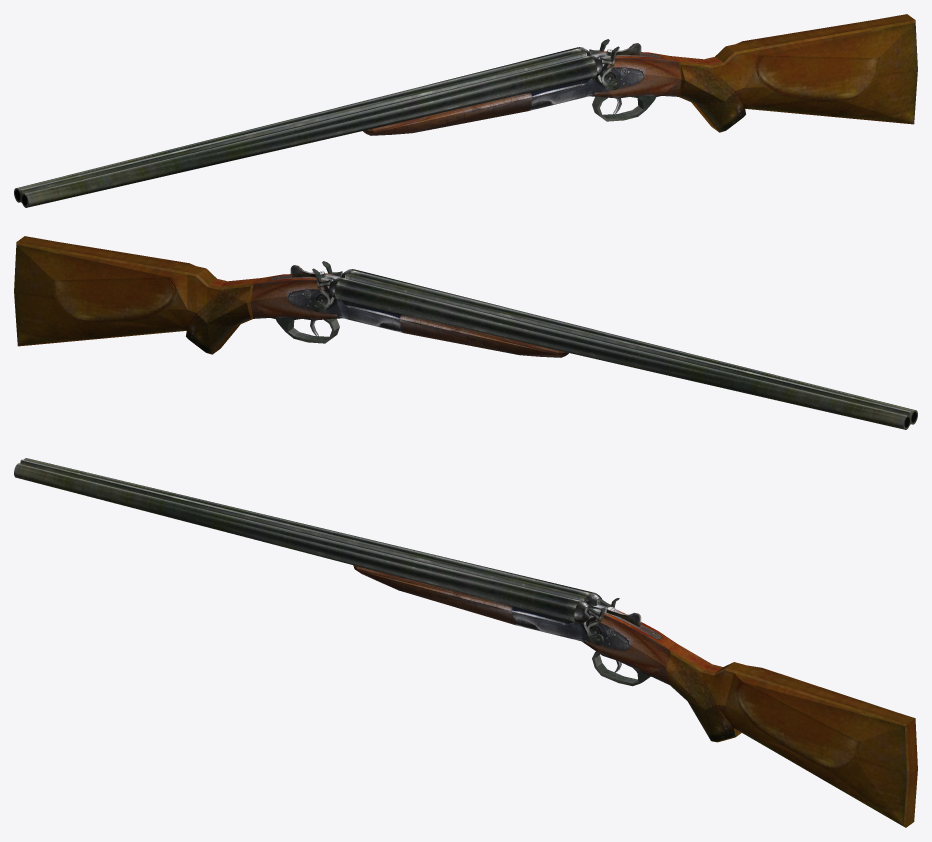
File: w_toz_bm.obj
3 renders of one model, top to bottom at view 1: azimuth 30°, elevation 25°; view 2: azimuth 150°, elevation 25°; view 3: azimuth 330°, elevation 25°, orthographic.
Visible parts, largest first — view 1: w_toz_bm_Cube; view 2: w_toz_bm_Cube; view 3: w_toz_bm_Cube.
Part boxes in pixels (x1,y1,x2,y2): w_toz_bm_Cube: [14, 14, 917, 207]; w_toz_bm_Cube: [14, 236, 917, 429]; w_toz_bm_Cube: [14, 458, 917, 827].
Size of the model in its own units: 15.21 by 2.45 by 0.6991.
